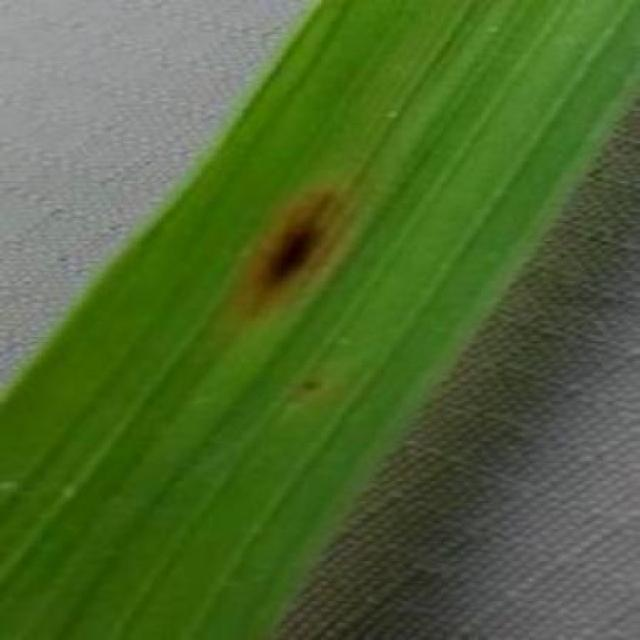Leaf_Blast: (200, 163, 368, 329), (274, 362, 338, 398), (0, 463, 42, 514), (364, 92, 416, 131), (86, 534, 136, 574), (382, 0, 426, 29)
